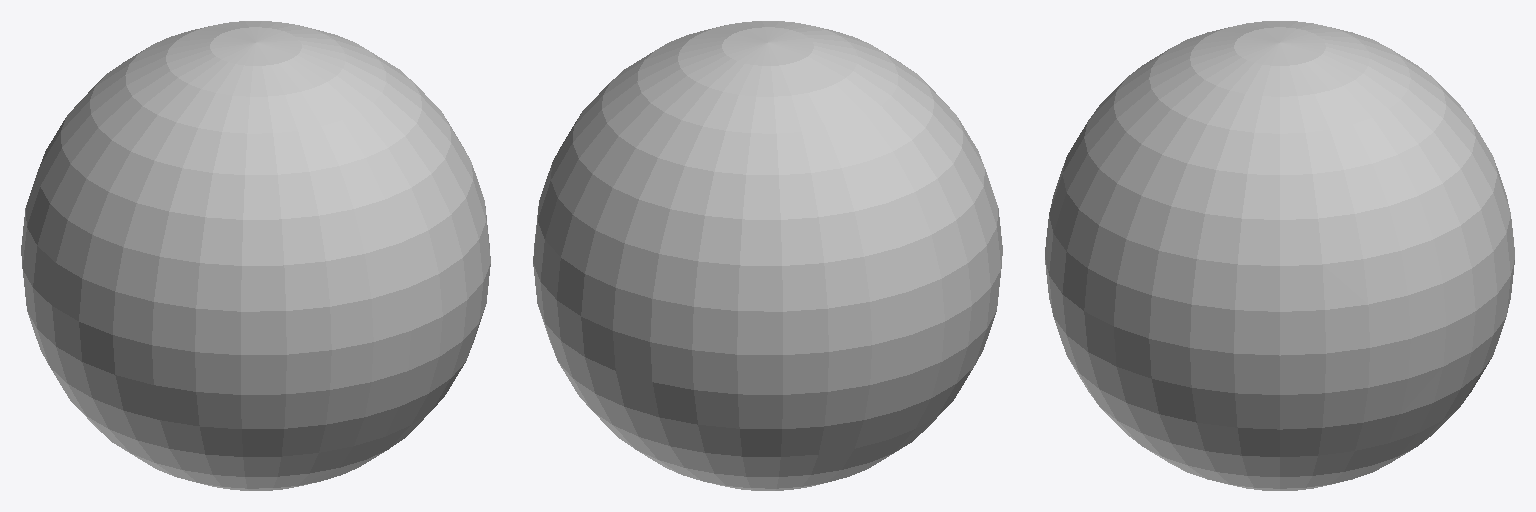
File: pellet.obj
3 renders of one model, left to right at view 1: azimuth 30°, elevation 25°; view 2: azimuth 150°, elevation 25°; view 3: azimuth 270°, elevation 25°, orthographic.
Visible parts, largest first — view 1: Sphere; view 2: Sphere; view 3: Sphere.
Boxes of the visible parts, box(x1,y1,x2,y2) form: Sphere: box(21, 21, 490, 490); Sphere: box(533, 21, 1002, 490); Sphere: box(1045, 21, 1514, 490).
Size of the model in its own units: 0.09 by 0.09 by 0.09.